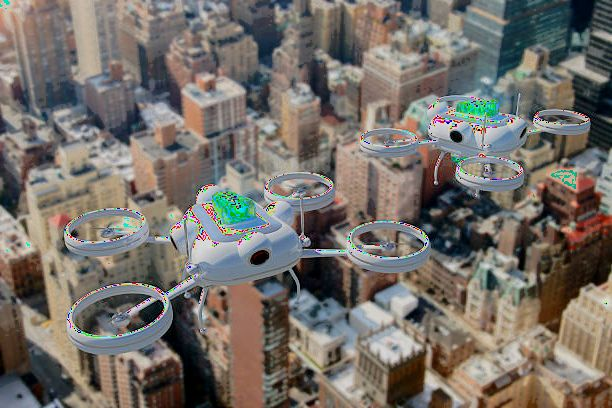Drone: (55, 168, 434, 358), (357, 90, 594, 196)
